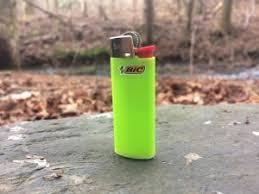lighter: (108, 33, 159, 158)
